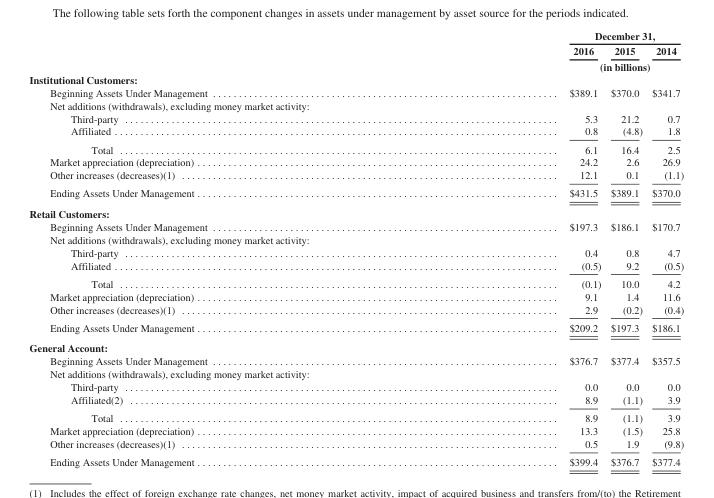table: (28, 29, 683, 467)
table column: (28, 29, 387, 467), (387, 29, 605, 467), (605, 29, 646, 467), (646, 29, 683, 467)
table column header: (28, 29, 683, 72)
table projected row header: (28, 203, 683, 220), (28, 337, 683, 354), (28, 72, 683, 85), (28, 98, 683, 111), (28, 232, 683, 245), (28, 367, 683, 380)
table row: (28, 183, 683, 203), (28, 318, 683, 337), (28, 203, 683, 220), (28, 337, 683, 354), (28, 42, 683, 58), (28, 139, 683, 155), (28, 258, 683, 274), (28, 302, 683, 318), (28, 408, 683, 424), (28, 124, 683, 139), (28, 168, 683, 183), (28, 274, 683, 289), (28, 393, 683, 408), (28, 437, 683, 452), (28, 452, 683, 467), (28, 58, 683, 72), (28, 29, 683, 42), (28, 72, 683, 85), (28, 85, 683, 98), (28, 98, 683, 111), (28, 111, 683, 124), (28, 155, 683, 168), (28, 232, 683, 245), (28, 245, 683, 258), (28, 289, 683, 302), (28, 354, 683, 367), (28, 367, 683, 380), (28, 380, 683, 393), (28, 424, 683, 437), (28, 220, 683, 232)
table spanning cell: (387, 58, 683, 72), (387, 29, 683, 42)
